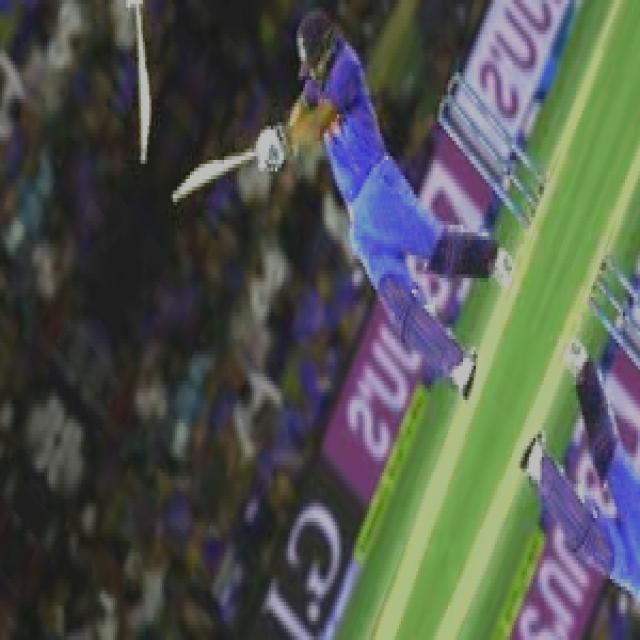toe: (168, 177, 192, 201)
